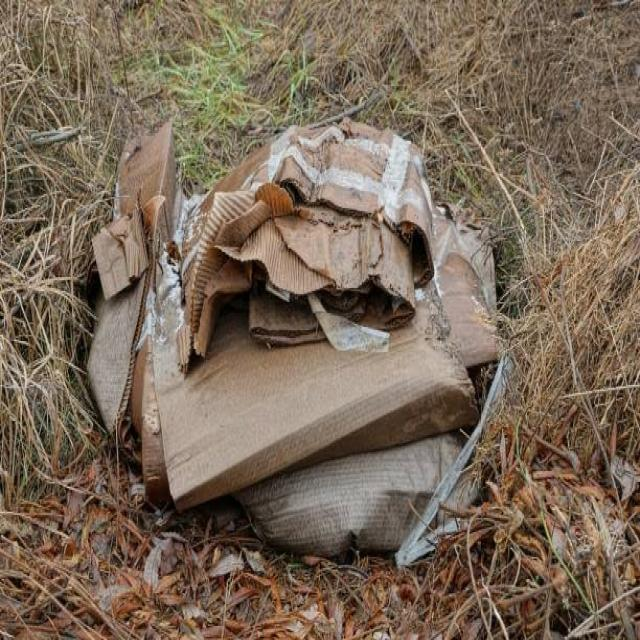paper: (84, 106, 512, 501)
